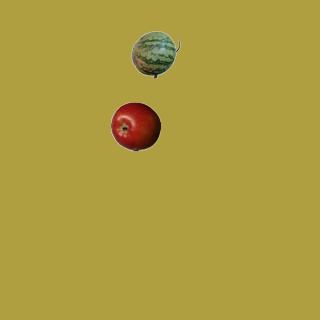Apple Braeburn: (110, 101, 160, 151)
Watermelon: (130, 29, 180, 79)
